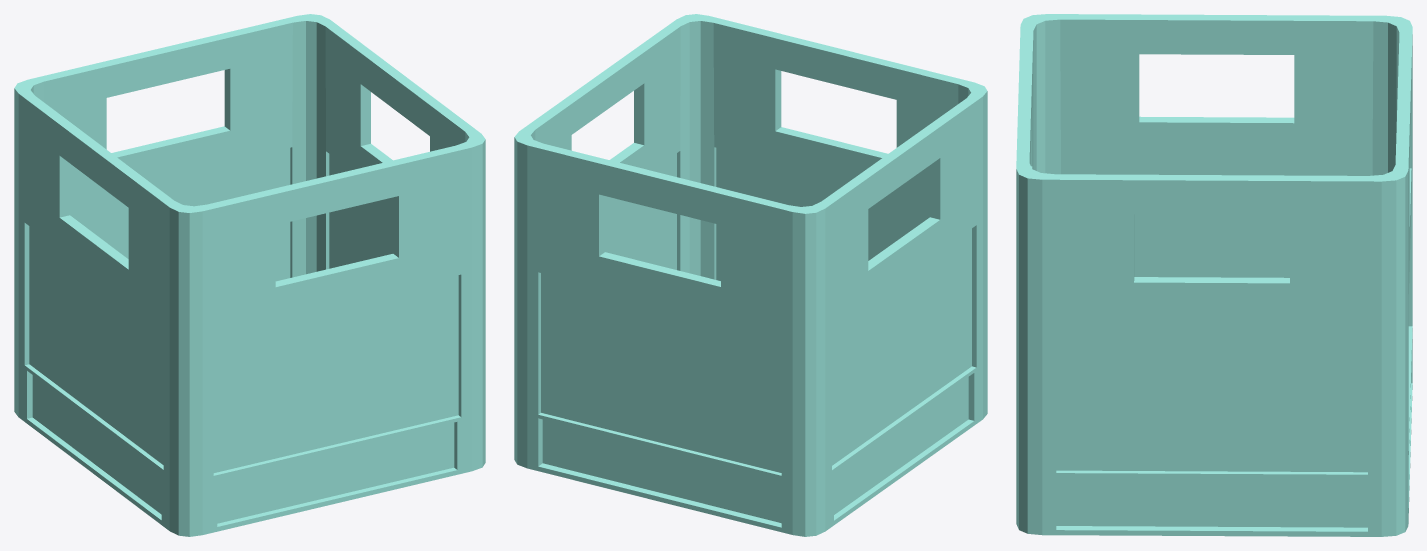
The model's file is crate4_reference.001.fbx.
3 renders of one model, left to right at view 1: azimuth 30°, elevation 25°; view 2: azimuth 150°, elevation 25°; view 3: azimuth 270°, elevation 25°, orthographic. The views are drawn at different scales.
Parts seen in each view (by area): view 1: crate4_reference.001; view 2: crate4_reference.001; view 3: crate4_reference.001.
Boxes of the visible parts, x1,y1,x2,y2 form: crate4_reference.001: [14, 14, 485, 536]; crate4_reference.001: [514, 14, 987, 536]; crate4_reference.001: [1016, 14, 1412, 536].
Bounding box in the file's own units: 49.89 × 49.36 × 49.89.
